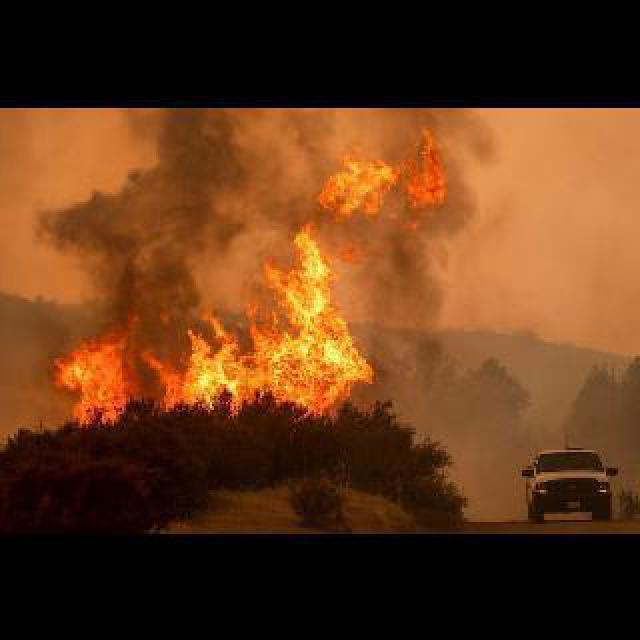Fire: (154, 112, 448, 408), (58, 330, 142, 420)
Smoke: (42, 99, 280, 372), (358, 208, 478, 390)
